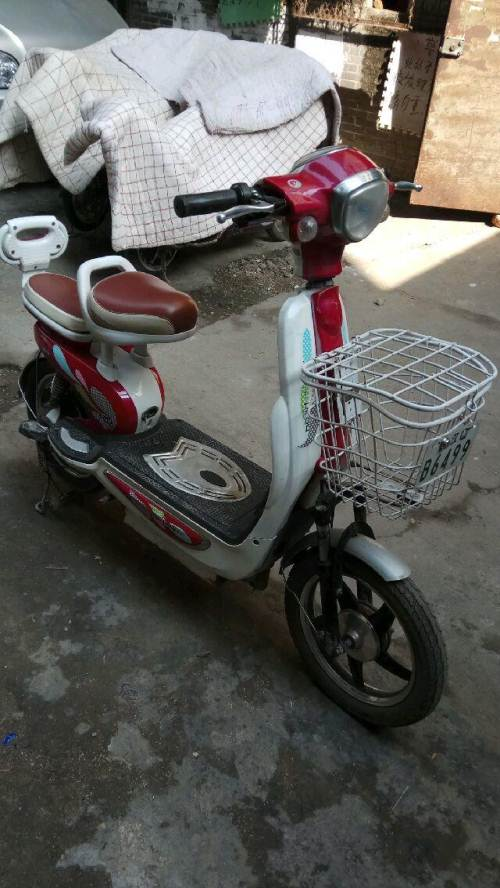电动车: (2, 145, 500, 735)
